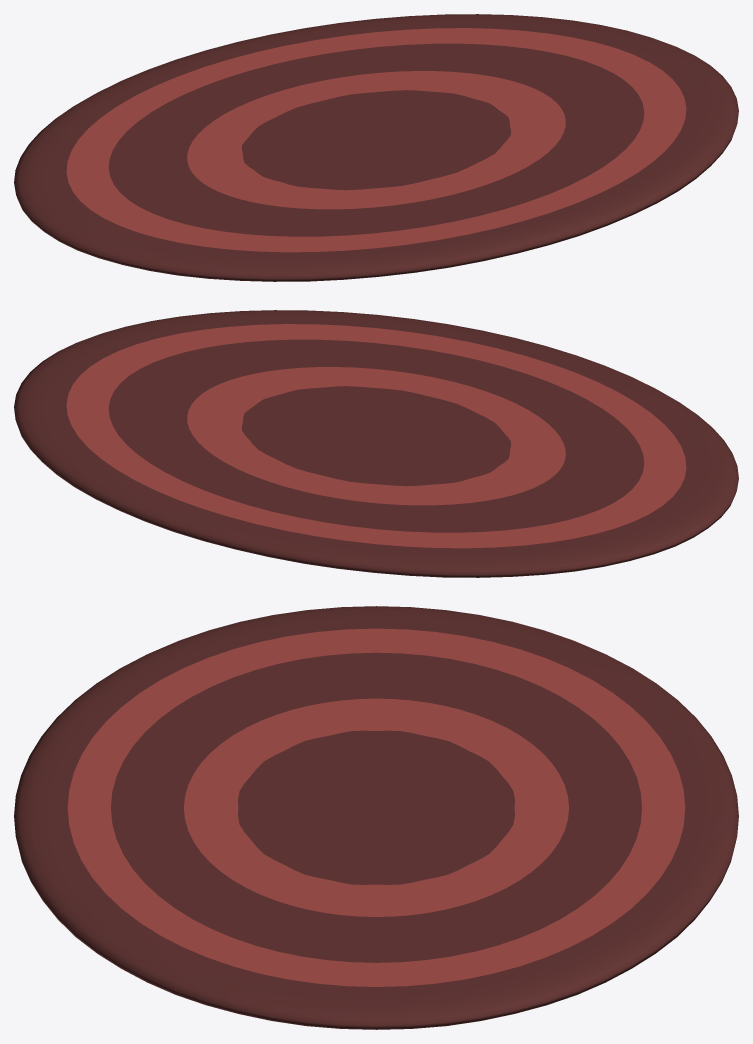
Rendered from Carpet.fbx.
3 renders of one model, top to bottom at view 1: azimuth 30°, elevation 25°; view 2: azimuth 150°, elevation 25°; view 3: azimuth 270°, elevation 25°, orthographic. The views are drawn at different scales.
Parts seen in each view (by area): view 1: pCylinder1; view 2: pCylinder1; view 3: pCylinder1.
Part boxes in pixels (<box>): pCylinder1: <box>14,14,738,281</box>; pCylinder1: <box>14,310,738,577</box>; pCylinder1: <box>14,606,738,1029</box>.
Size of the model in its own units: 5.91 by 0.1799 by 4.33.
